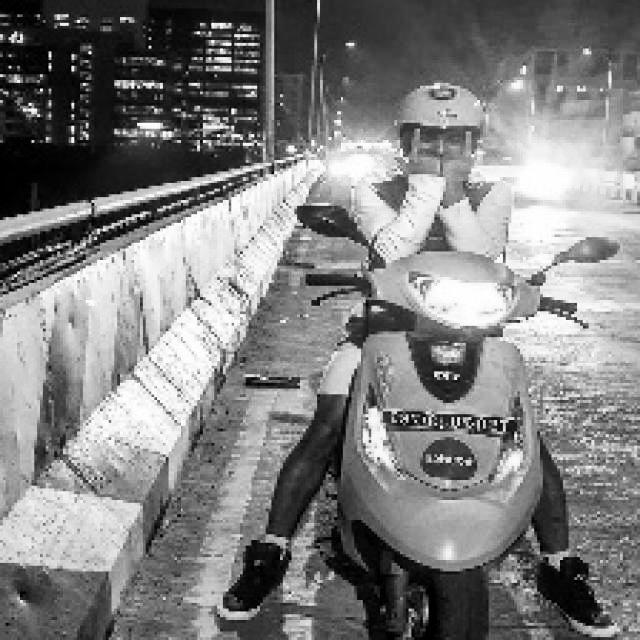Bike: (306, 259, 544, 639)
